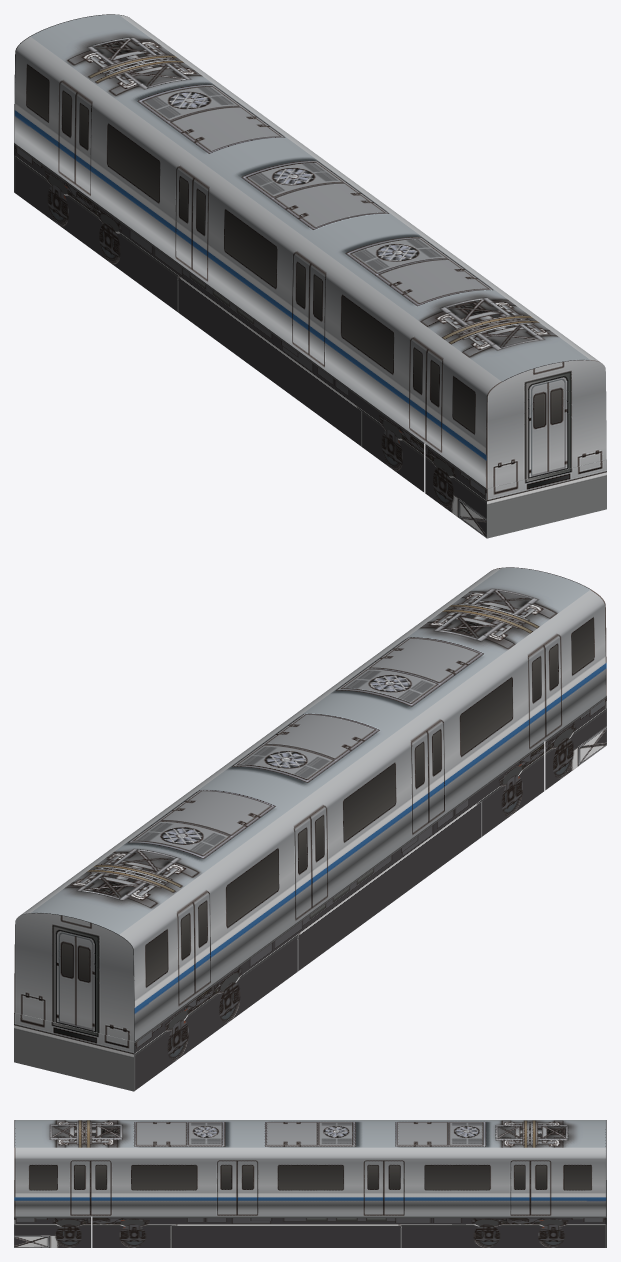
The model's file is car2.glb.
3 renders of one model, top to bottom at view 1: azimuth 30°, elevation 25°; view 2: azimuth 150°, elevation 25°; view 3: azimuth 270°, elevation 25°, orthographic. The views are drawn at different scales.
Parts seen in each view (by area): view 1: hukuokasub-2000-car2; view 2: hukuokasub-2000-car2; view 3: hukuokasub-2000-car2.
Boxes of the visible parts, left/top/right/bottom form: hukuokasub-2000-car2: left=14, top=14, right=606, bottom=538; hukuokasub-2000-car2: left=14, top=567, right=606, bottom=1091; hukuokasub-2000-car2: left=14, top=1120, right=606, bottom=1247.
Bounding box in the file's own units: 2.86 × 3.61 × 19.53.
Materials: 9 (8 with a texture image).
